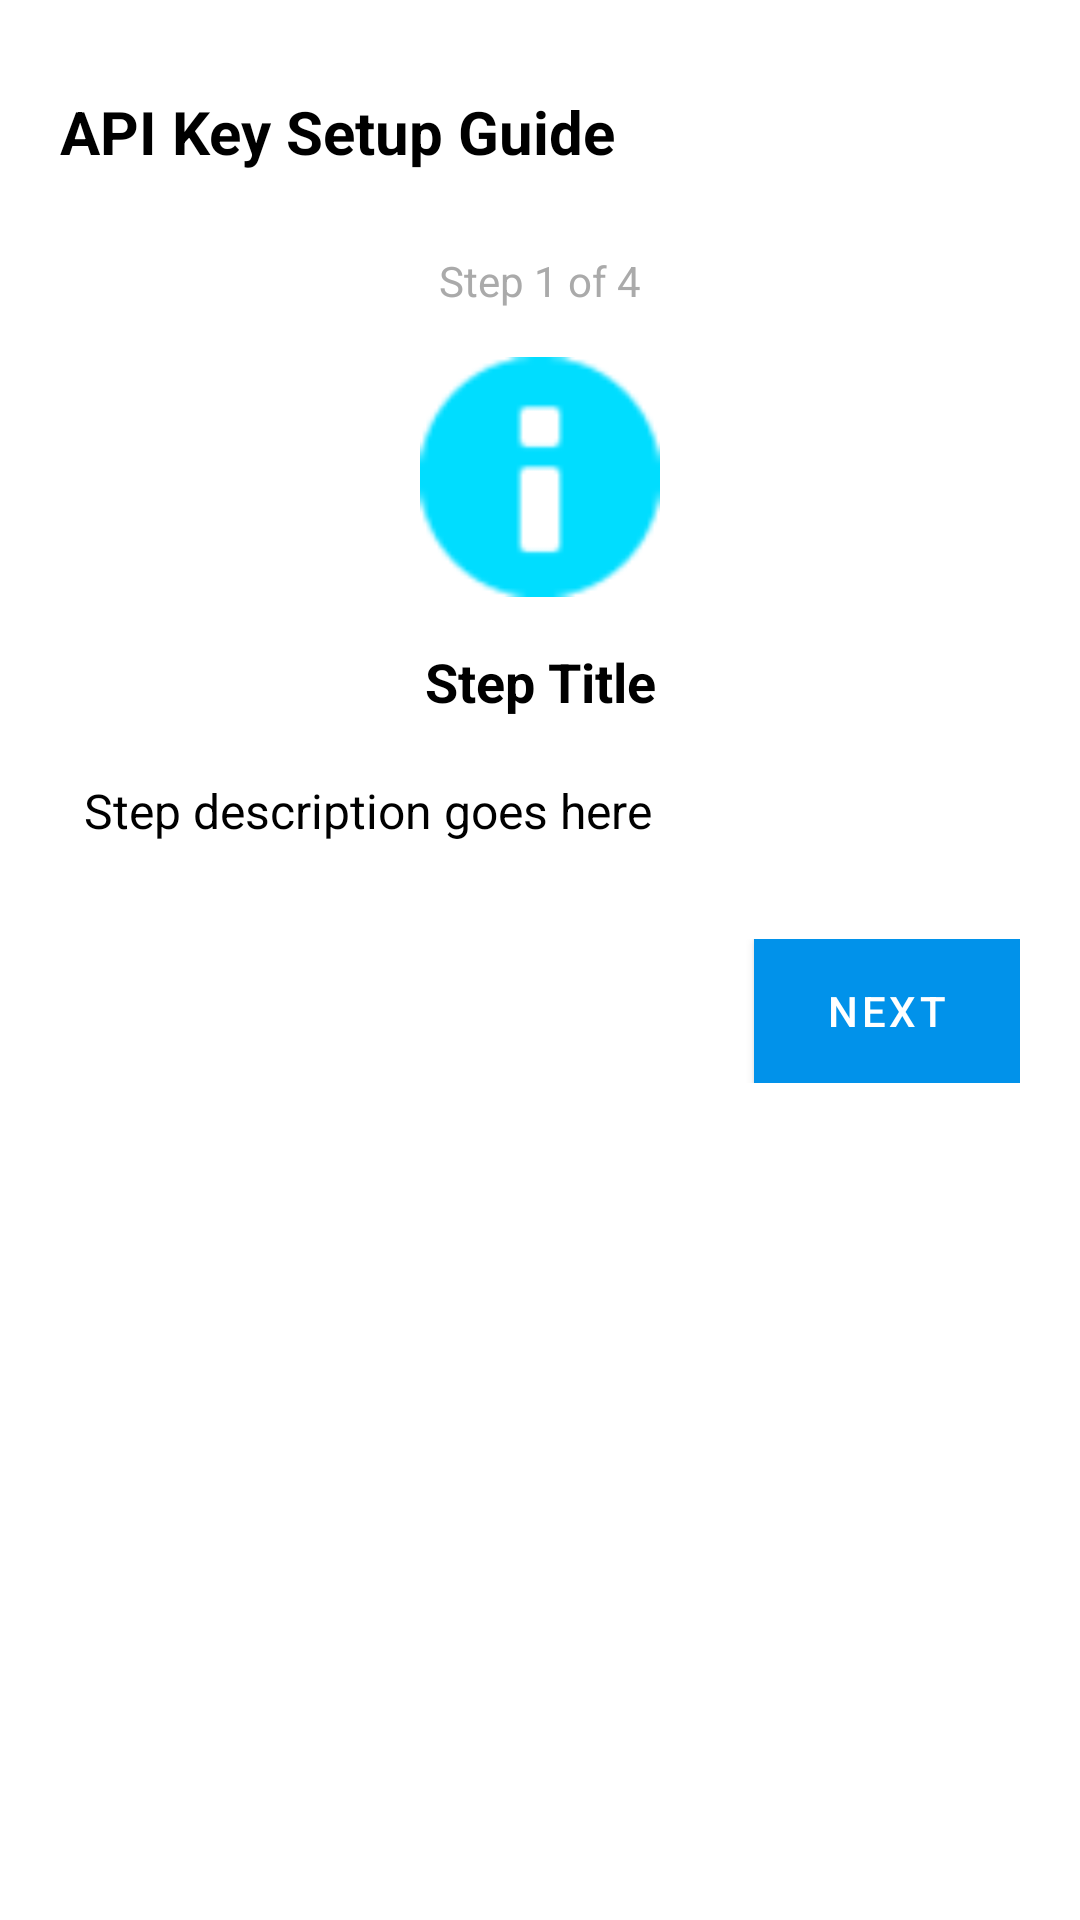

Icon click points for this 1080px x 1920px phone screenshot, format (x=x, y=y):
info: (x=540, y=477)
